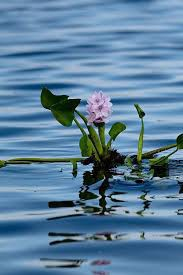water_hyacinth: (26, 75, 183, 183)
